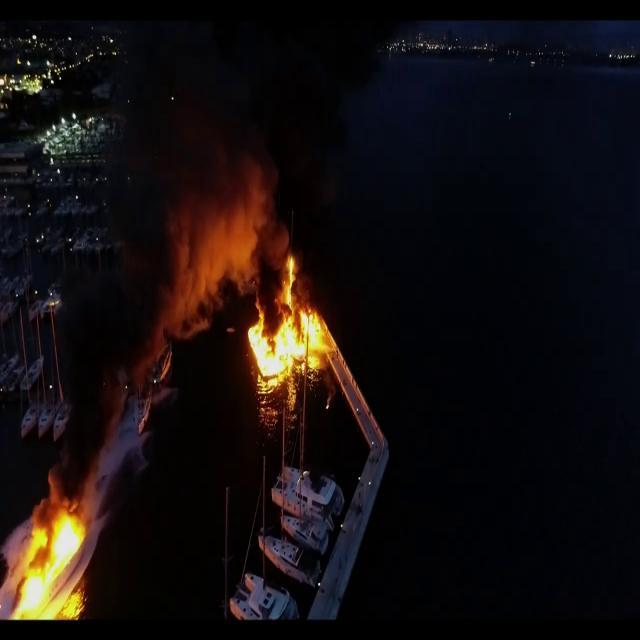Fire: (245, 255, 333, 399), (12, 496, 86, 619)
Smoke: (81, 10, 273, 312)
